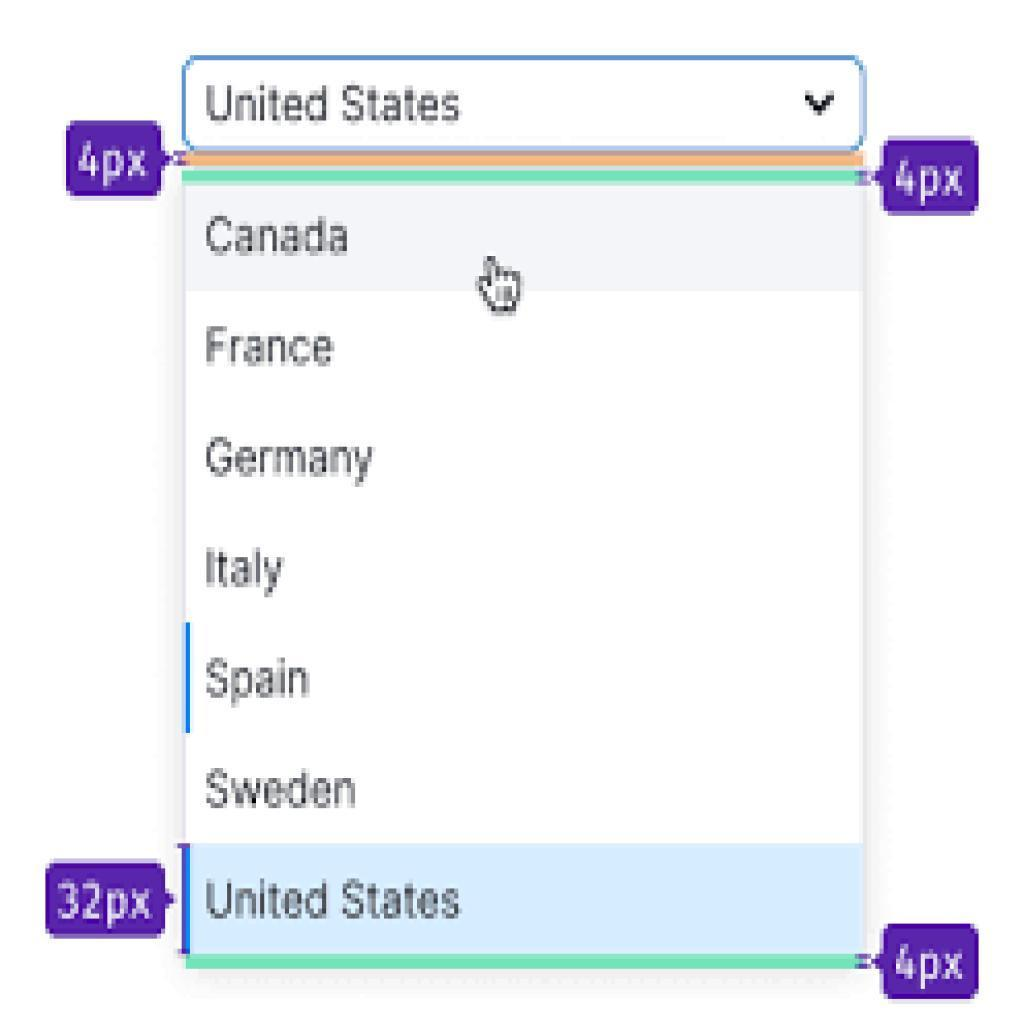dropdown: (184, 57, 864, 151)
